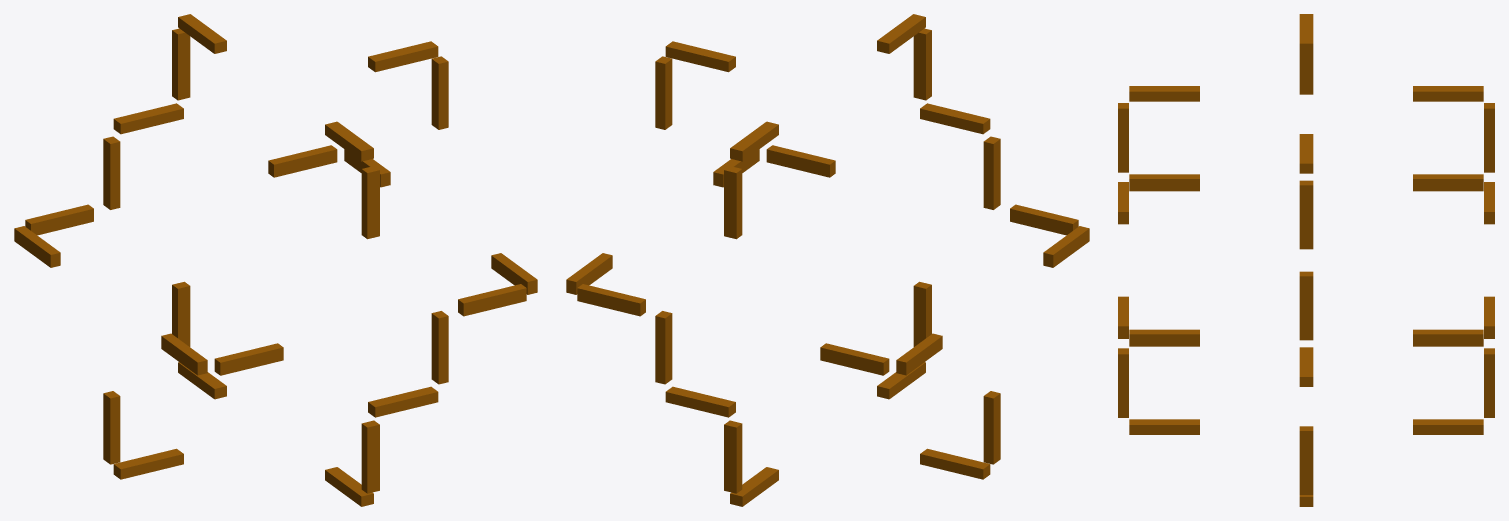
The model's file is hexin3.fbx.
3 renders of one model, left to right at view 1: azimuth 30°, elevation 25°; view 2: azimuth 150°, elevation 25°; view 3: azimuth 270°, elevation 25°, orthographic. The views are drawn at different scales.
Visible parts, largest first — view 1: 立方体.002; view 2: 立方体.002; view 3: 立方体.002.
Boxes of the visible parts, box(x1,y1,x2,y2) form: 立方体.002: box(14, 14, 537, 506); 立方体.002: box(566, 14, 1089, 506); 立方体.002: box(1118, 14, 1494, 506).
Bounding box in the file's own units: 80.82 × 80.82 × 80.42.
